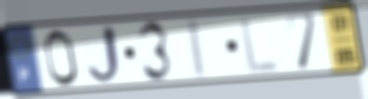0: (42, 28, 80, 88)
3: (135, 20, 177, 83)
7: (285, 11, 318, 71)
I: (187, 16, 209, 81)
J: (84, 23, 127, 86)
L: (238, 15, 282, 75)
